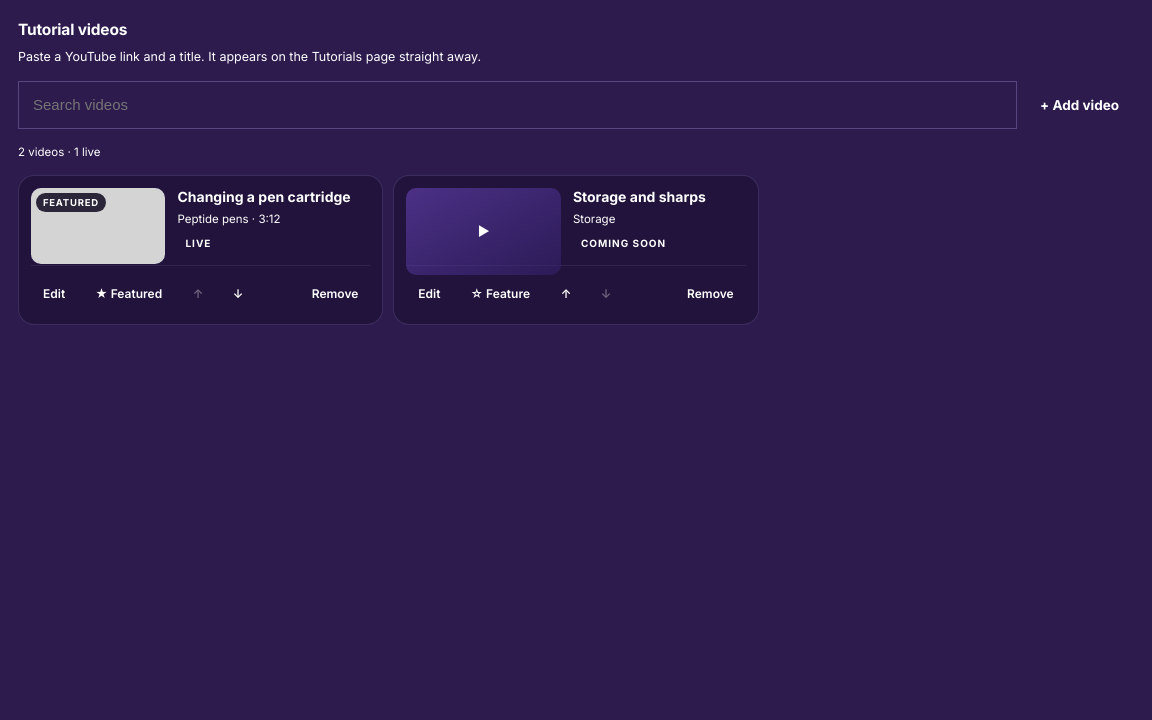
Test: VideosCard — adding a video › requires a title
Check: the list item "Changing a pen cartridge" is shown, box [18,175,383,325]
Click the button "+ Add video" at [1080, 105], box [1025,83,1134,127]
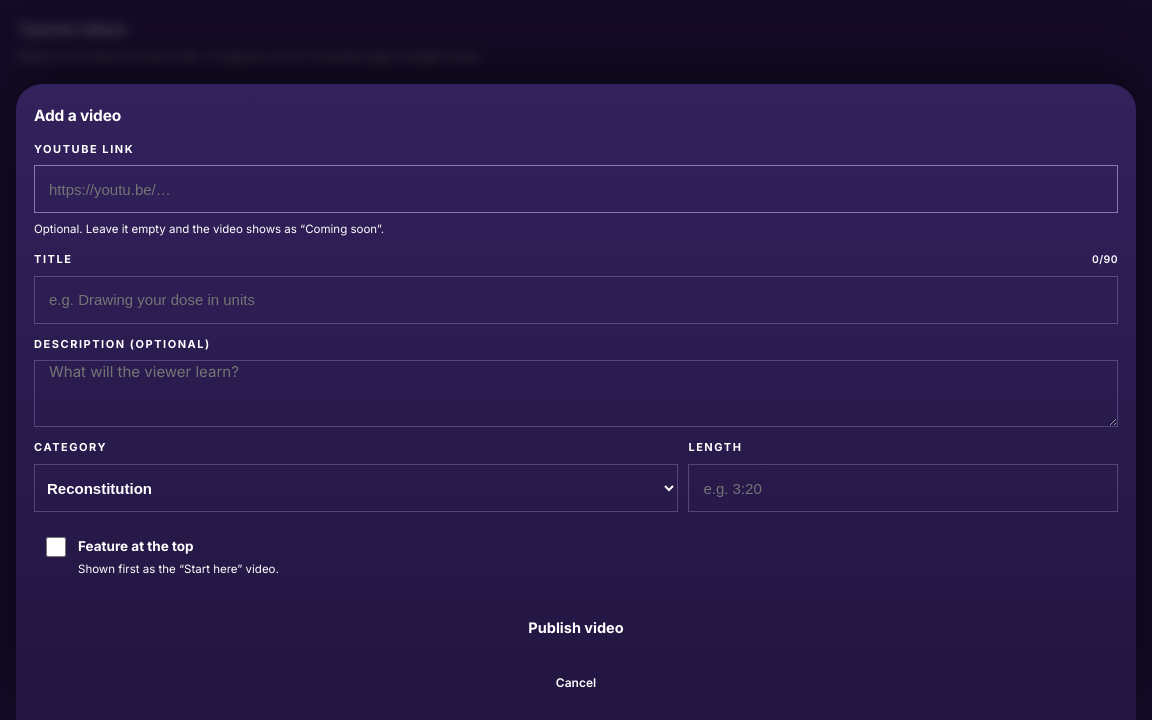
Click the button "Publish video" at [576, 627], box [34,602,1118,652]
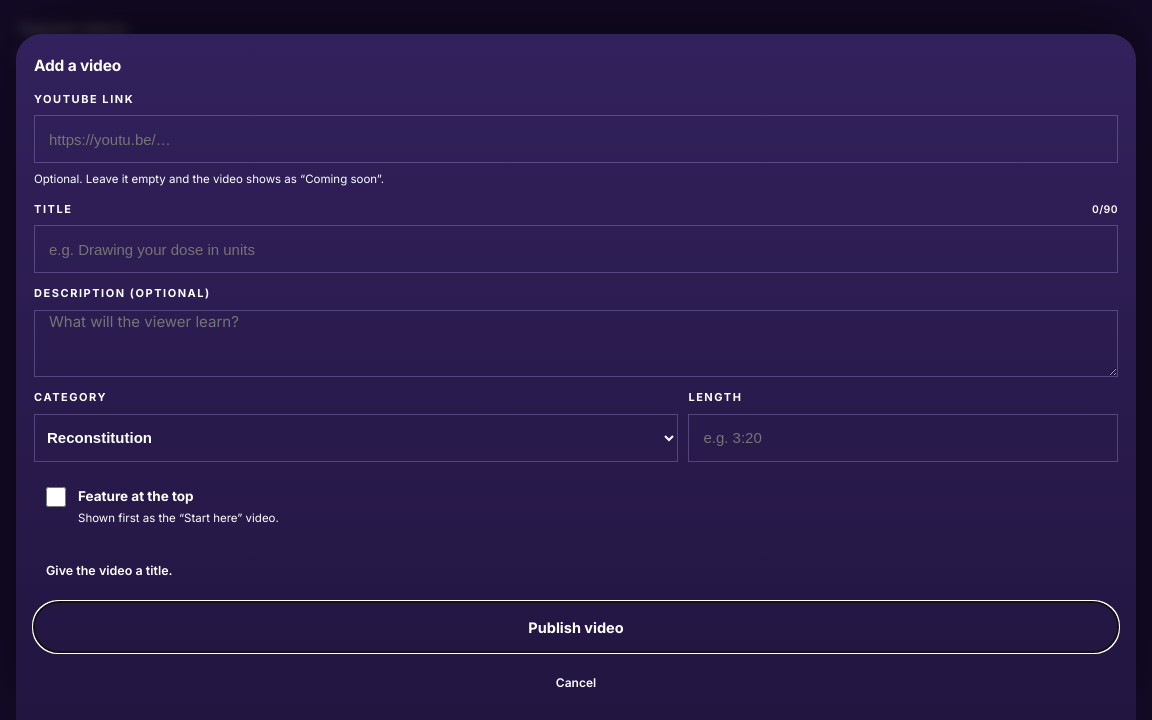
Check: the message shows "title", box [46,563,173,578]
